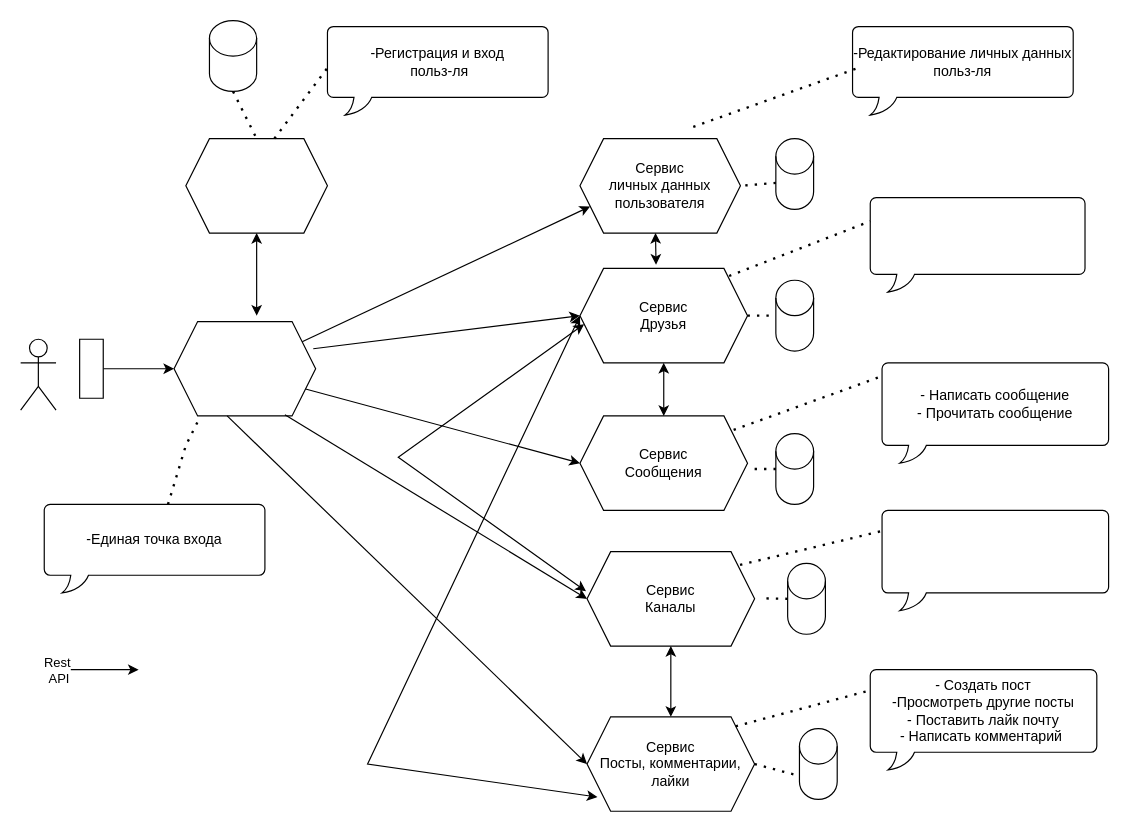
Image size: 1129x832. Some labels were removed from this diagram. Here are the shapes that lost their labels. From the top down, the box of each, then its label:
(185, 137, 327, 233): Сервис авторизации пользователя
(869, 196, 1085, 292): - Список людей -Добавление в друзья
(19, 338, 56, 410): Actor
(173, 320, 316, 416): gateway
(881, 509, 1109, 611): - Создать канал -Удалить канал -Подписка на канал
